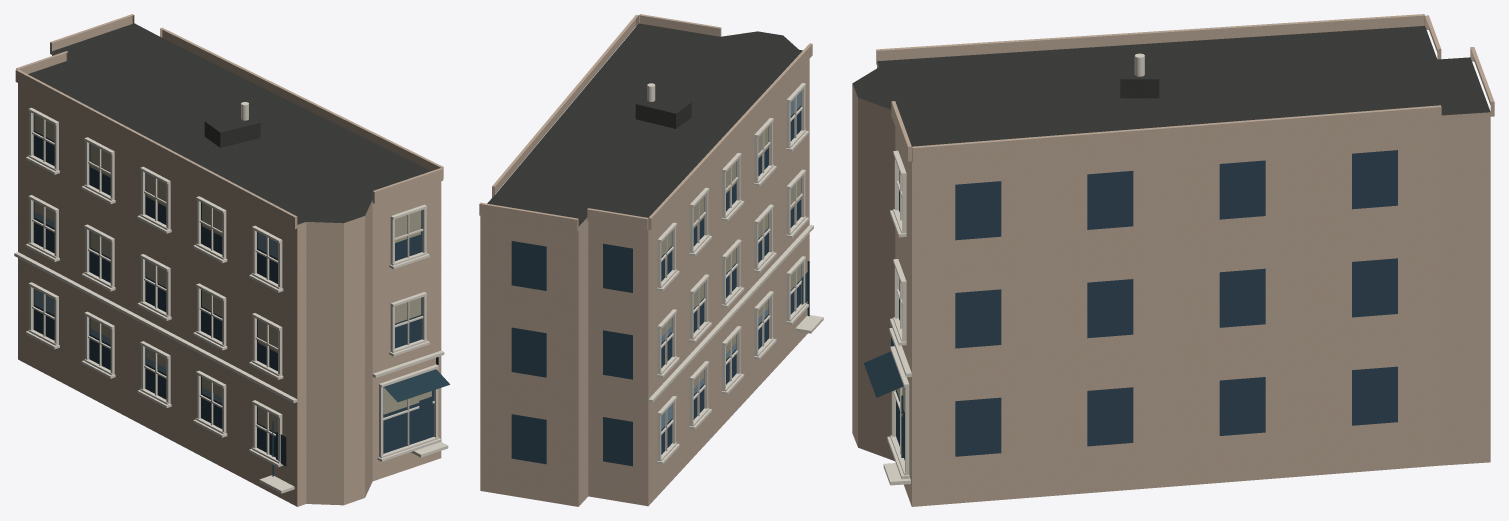
3 views of the same model, side by side, from view 1: azimuth 30°, elevation 25°; view 2: azimuth 150°, elevation 25°; view 3: azimuth 270°, elevation 25° (orthographic). The views are drawn at different scales.
Parts seen in each view (by area): view 1: Footprint 0 / surface 2, Footprint 0 / surface 1, Cornices and window frames, Inset glazing, Facade bay volumes, Interior blind variation, Sky reflection panels, Storefronts and doors, Inferred rooftop service enclosure / surface 5, Inferred rooftop service enclosure / surface 3; view 2: Footprint 0 / surface 2, Footprint 0 / surface 1, Cornices and window frames, Inset glazing, Facade bay volumes, Interior blind variation, Inferred rooftop service enclosure / surface 6, Inferred rooftop service enclosure / surface 3, Sky reflection panels; view 3: Footprint 0 / surface 2, Footprint 0 / surface 1, Inset glazing, Facade bay volumes, Cornices and window frames, Storefronts and doors, Inferred rooftop service enclosure / surface 1, Inferred rooftop service enclosure / surface 3.
Boxes of the visible parts, x1,y1,x2,y2 form: Footprint 0 / surface 2: [18, 51, 441, 506]; Footprint 0 / surface 1: [28, 23, 430, 224]; Cornices and window frames: [14, 107, 448, 493]; Inset glazing: [33, 114, 433, 466]; Facade bay volumes: [15, 14, 443, 228]; Interior blind variation: [34, 114, 431, 432]; Sky reflection panels: [34, 114, 431, 422]; Storefronts and doors: [272, 357, 449, 476]; Inferred rooftop service enclosure / surface 5: [220, 123, 260, 147]; Inferred rooftop service enclosure / surface 3: [205, 112, 260, 132]; Footprint 0 / surface 2: [480, 59, 809, 506]; Footprint 0 / surface 1: [487, 23, 802, 226]; Cornices and window frames: [648, 83, 823, 464]; Inset glazing: [511, 91, 807, 466]; Facade bay volumes: [479, 14, 812, 231]; Interior blind variation: [661, 127, 800, 388]; Inferred rooftop service enclosure / surface 6: [635, 104, 675, 128]; Inferred rooftop service enclosure / surface 3: [636, 93, 691, 113]; Sky reflection panels: [661, 92, 800, 429]; Footprint 0 / surface 2: [852, 62, 1490, 506]; Footprint 0 / surface 1: [852, 26, 1490, 146]; Inset glazing: [896, 150, 1397, 460]; Facade bay volumes: [876, 14, 1494, 162]; Cornices and window frames: [883, 150, 911, 485]; Storefronts and doors: [863, 336, 903, 457]; Inferred rooftop service enclosure / surface 1: [1120, 79, 1159, 98]; Inferred rooftop service enclosure / surface 3: [1120, 55, 1159, 79].
Size of the model in its own units: 9.9 by 13.27 by 19.89.
